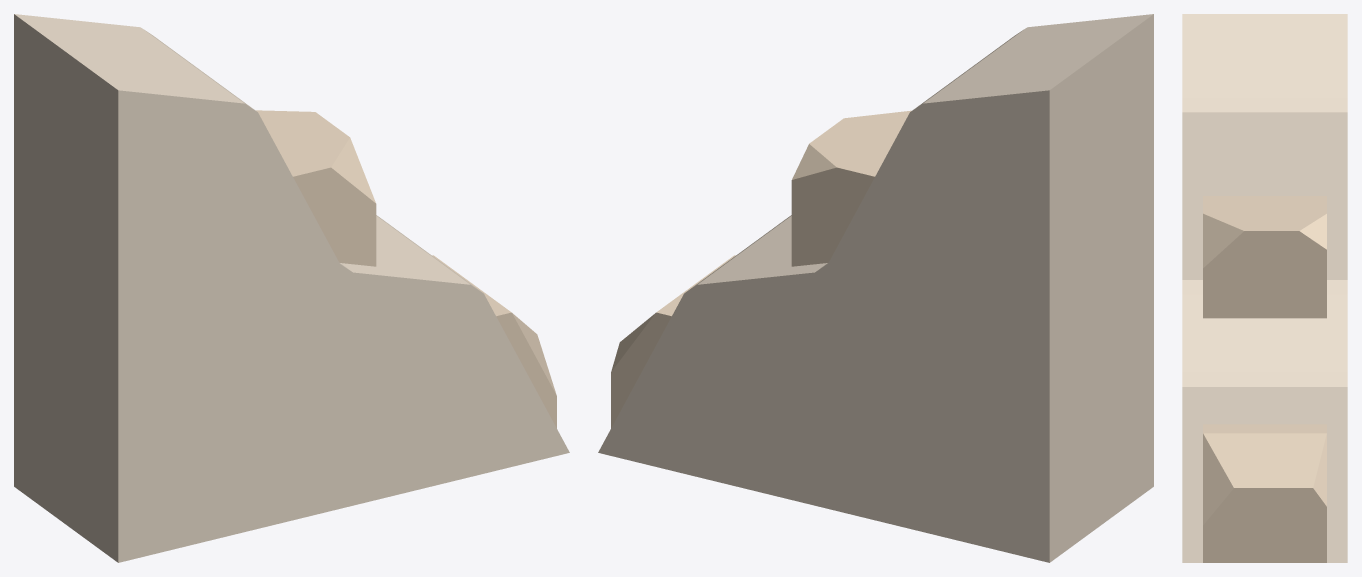
Rendered from Wall_Ruined_Corner_Outer_2.glb.
3 views of the same model, side by side, from view 1: azimuth 30°, elevation 25°; view 2: azimuth 150°, elevation 25°; view 3: azimuth 270°, elevation 25° (orthographic). The views are drawn at different scales.
Visible parts, largest first — view 1: Wall_Ruined_Corner_Outer_2; view 2: Wall_Ruined_Corner_Outer_2; view 3: Wall_Ruined_Corner_Outer_2.
Part boxes in pixels (x1,y1,x2,y2): Wall_Ruined_Corner_Outer_2: (14, 14, 569, 562); Wall_Ruined_Corner_Outer_2: (598, 14, 1153, 562); Wall_Ruined_Corner_Outer_2: (1182, 14, 1347, 562).
Size of the model in its own units: 0.5 by 0.5 by 0.2.
